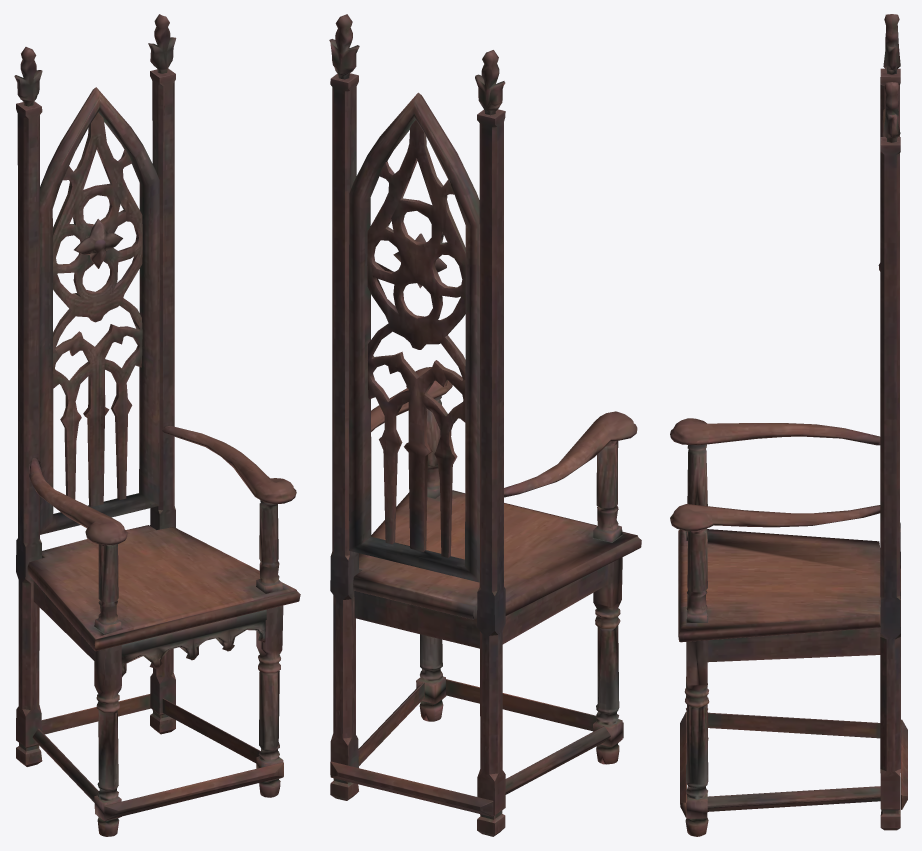
File: chair.glb
3 renders of one model, left to right at view 1: azimuth 30°, elevation 25°; view 2: azimuth 150°, elevation 25°; view 3: azimuth 270°, elevation 25°, orthographic. The views are drawn at different scales.
Parts seen in each view (by area): view 1: WoodenChair_01; view 2: WoodenChair_01; view 3: WoodenChair_01.
Part boxes in pixels (<box>): WoodenChair_01: <box>14,14,300,836</box>; WoodenChair_01: <box>329,14,641,836</box>; WoodenChair_01: <box>670,14,907,836</box>.
Size of the model in its own units: 0.6873 by 2.27 by 0.6576.
Materials: 1 (1 with a texture image).
